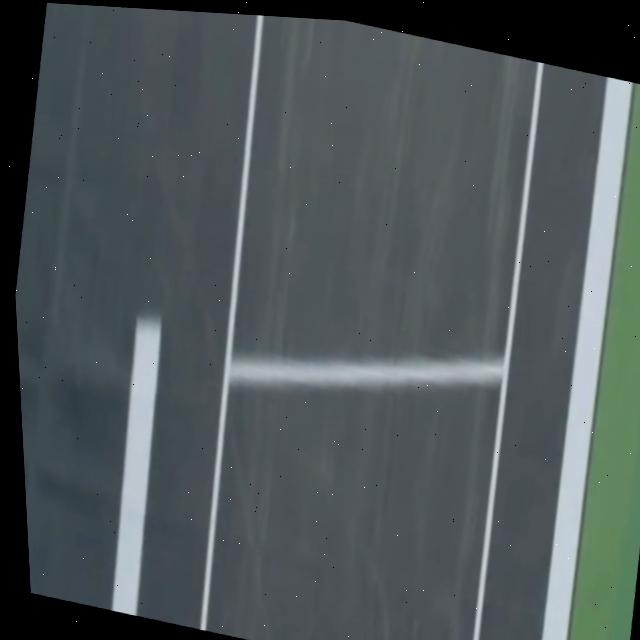center: (111, 317, 161, 616)
right: (541, 77, 632, 640)
